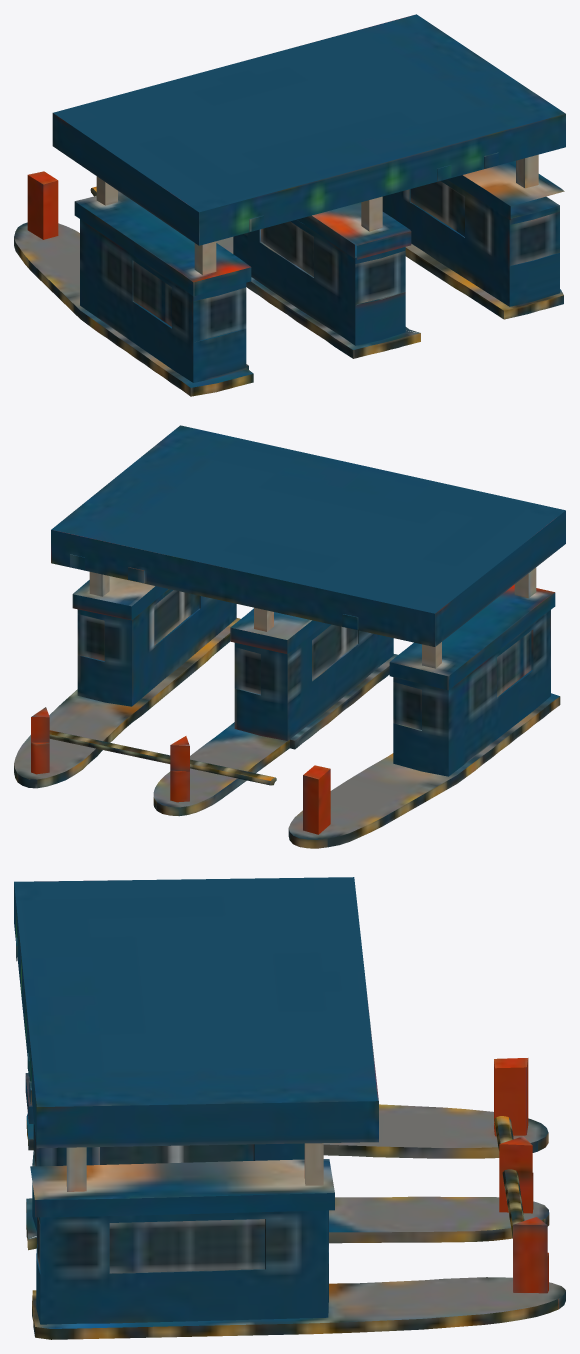
The model's file is gerbang_tiket_lod2.glb.
3 views of the same model, one above another, from view 1: azimuth 30°, elevation 25°; view 2: azimuth 150°, elevation 25°; view 3: azimuth 270°, elevation 25° (orthographic). The views are drawn at different scales.
Visible parts, largest first — view 1: tripo_node_00b2dab5; view 2: tripo_node_00b2dab5; view 3: tripo_node_00b2dab5.
Boxes of the visible parts, x1,y1,x2,y2 form: tripo_node_00b2dab5: (14,14,565,396); tripo_node_00b2dab5: (14,425,565,848); tripo_node_00b2dab5: (14,877,565,1339).
Bounding box in the file's own units: 88.21 × 41.43 × 89.27.
Materials: 1 (1 with a texture image).
